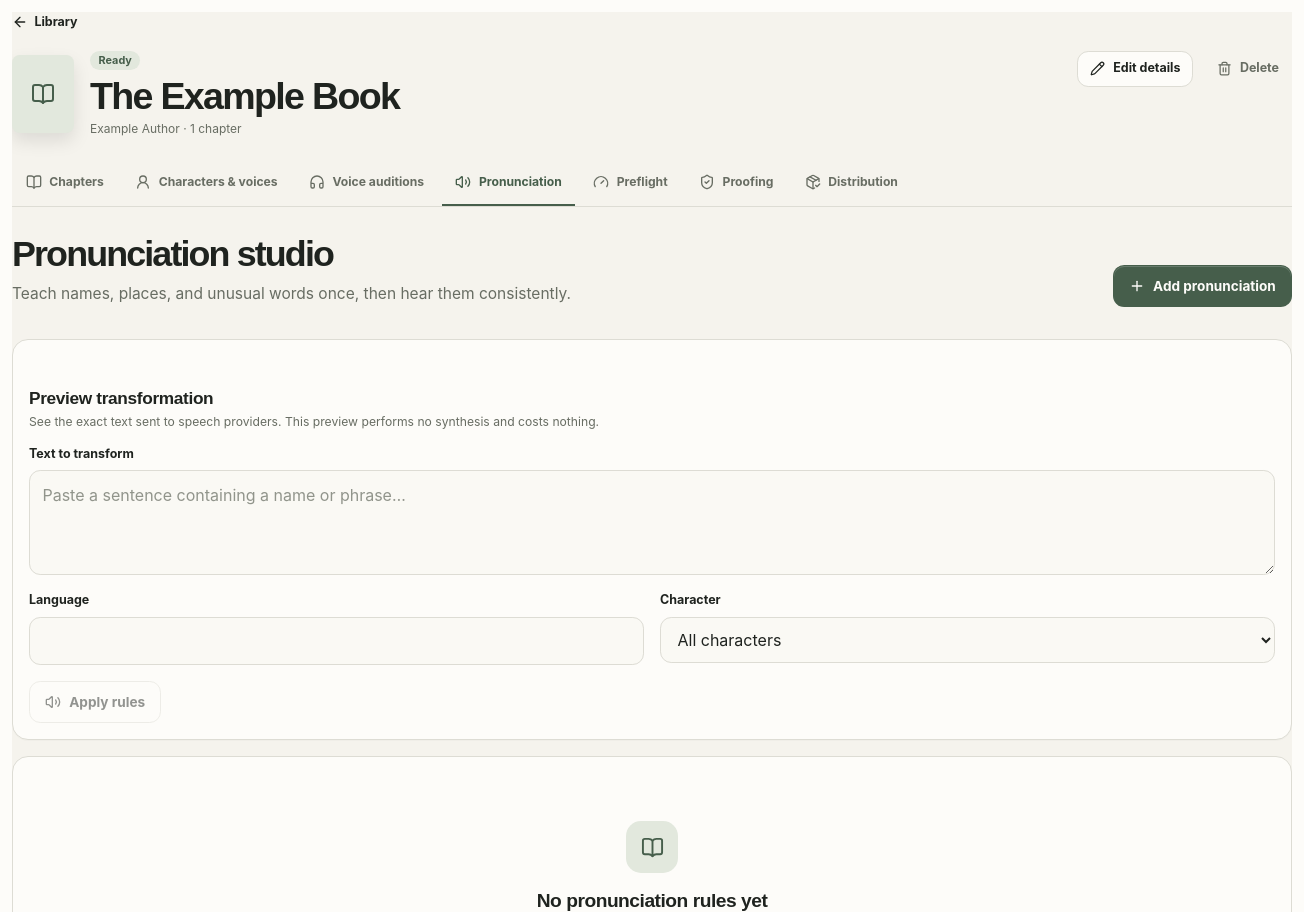
Test case: pronunciation rules › previews deterministic transformations with language and character scope
Type "Kyiv greeted Alice." into the text box labelled "Text to transform".
click(652, 523); type("Kyiv greeted Alice.")  # box [29,470,1275,575]
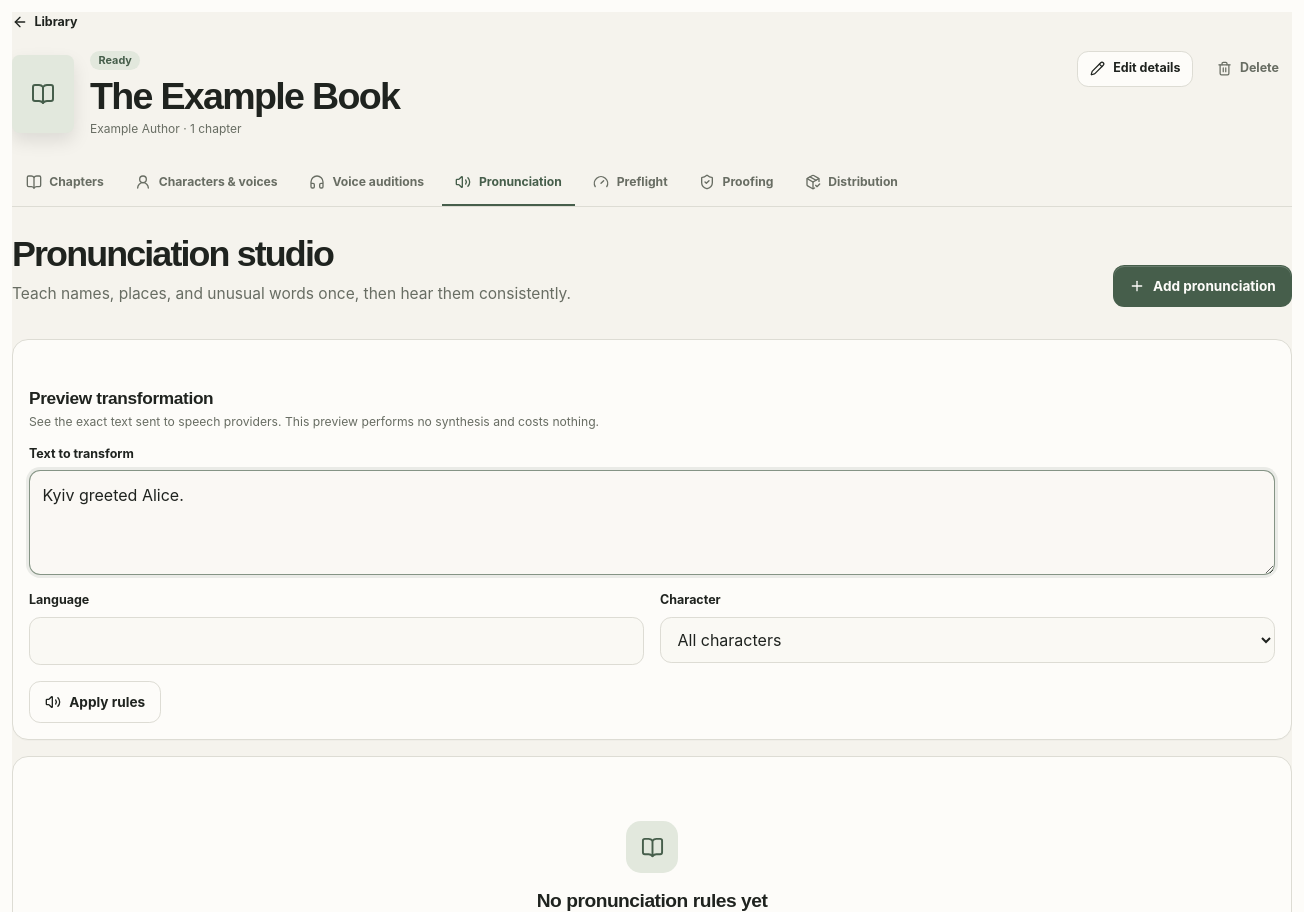
Type "en" into the field labelled "Language".
click(336, 641); type("en")  # box [29,617,644,665]
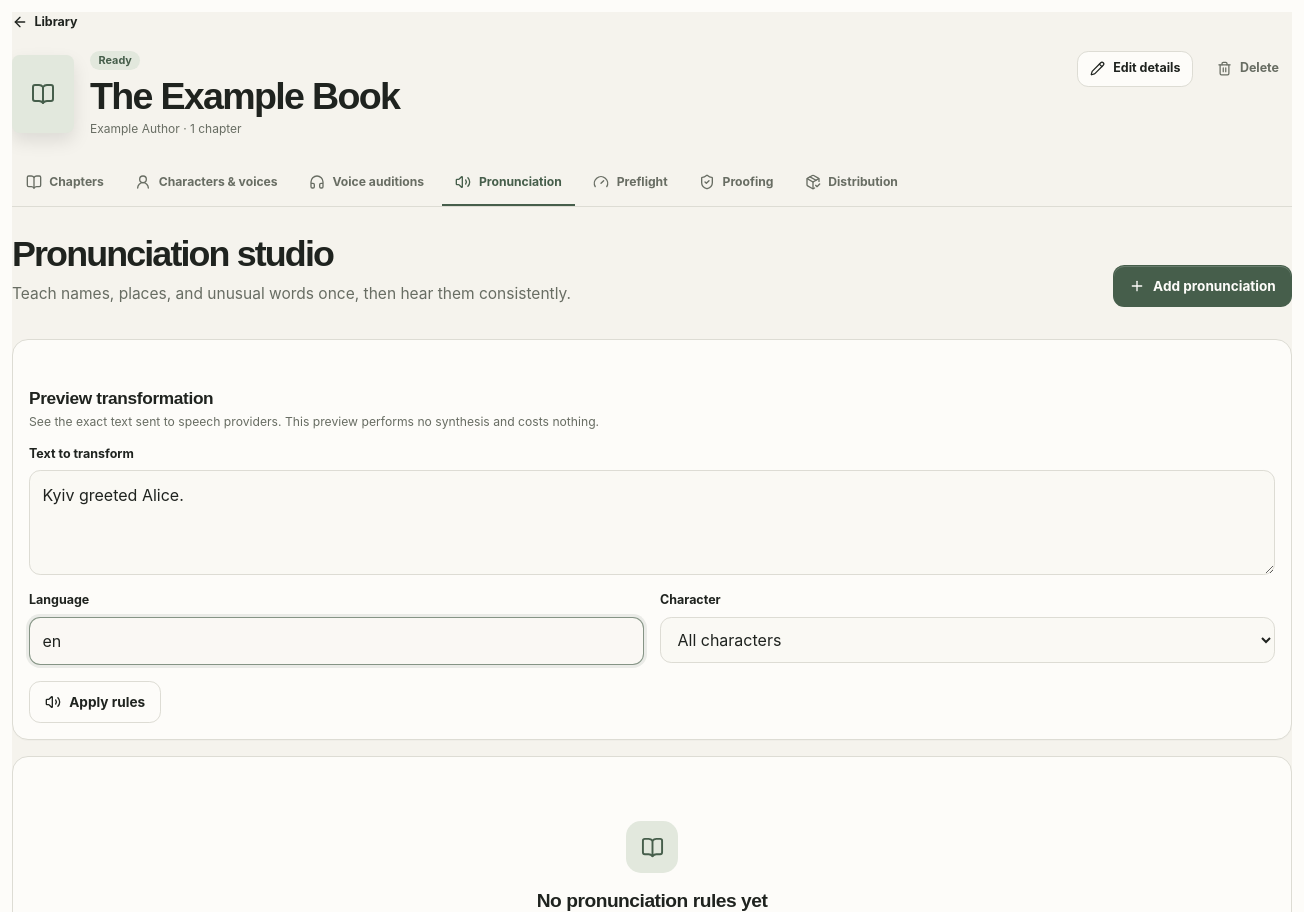
Select "Alice" in the dropdown labelled "Character" at [968, 640], box [660,617,1275,663]
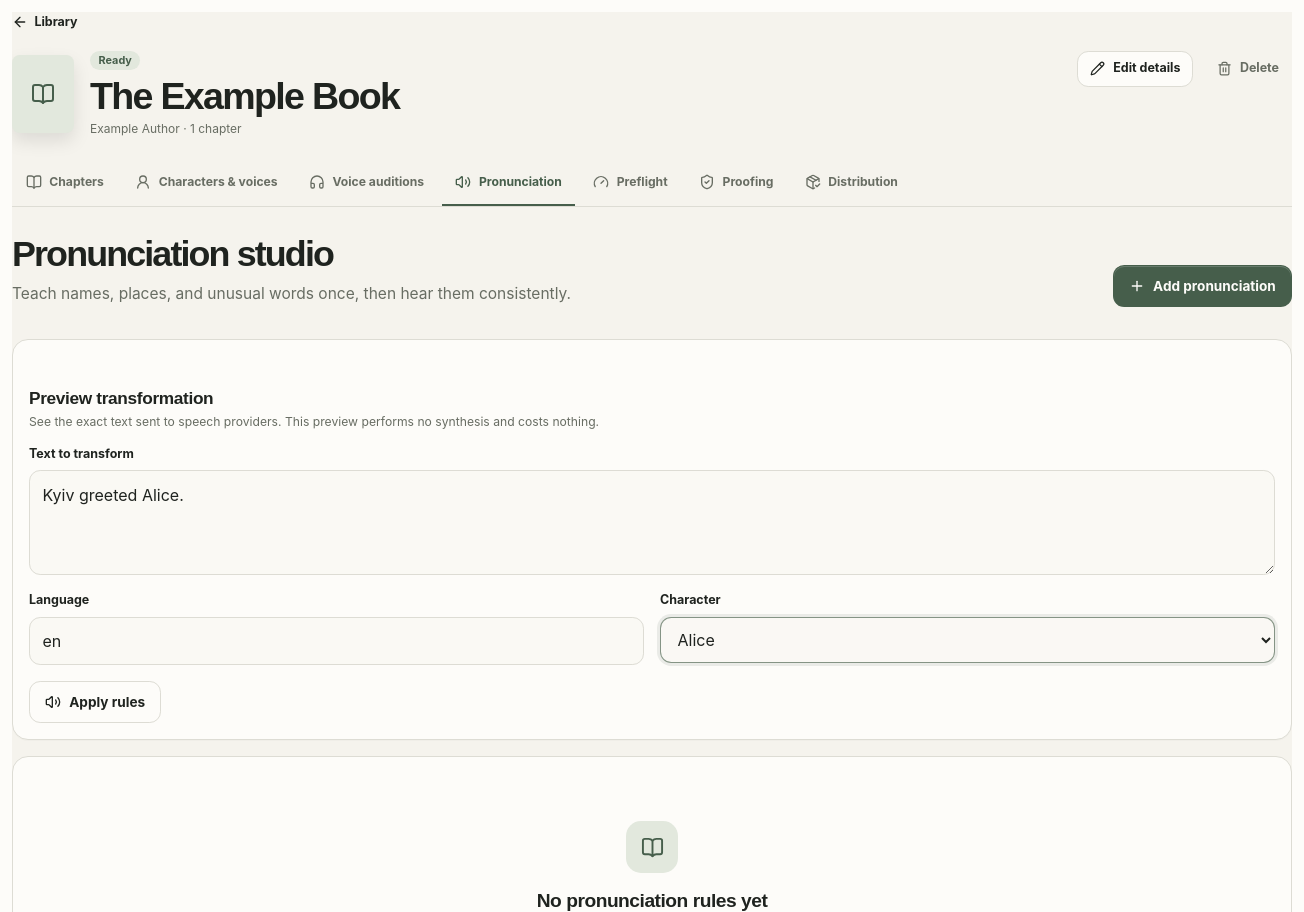
Click the button "Apply rules".
click(95, 702)  # box [29,681,161,723]
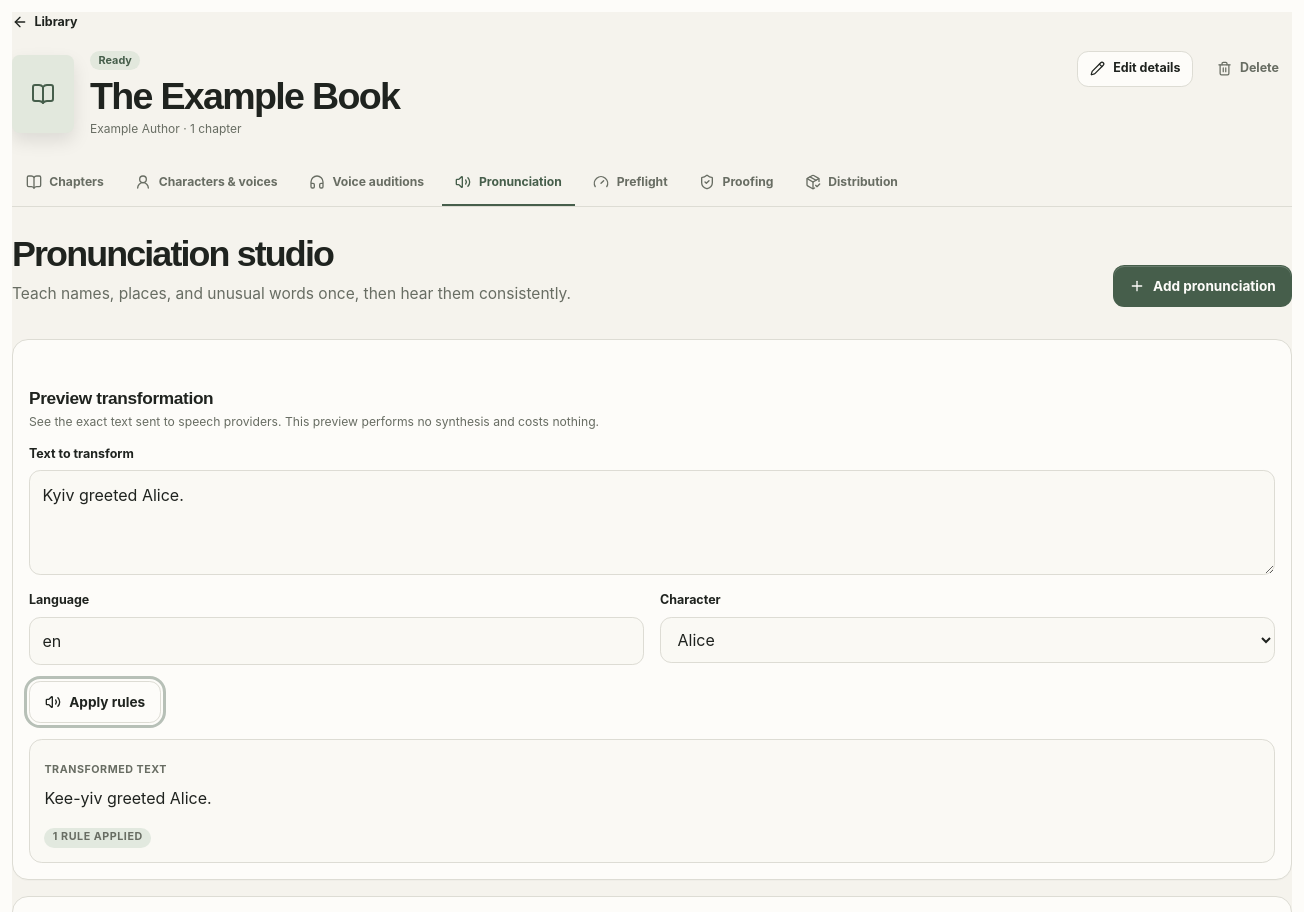
Expected: the text "Kee-yiv greeted Alice." is shown, [44,788,212,808]
Expected: the text "1 rule applied" is shown, [44,828,151,848]
